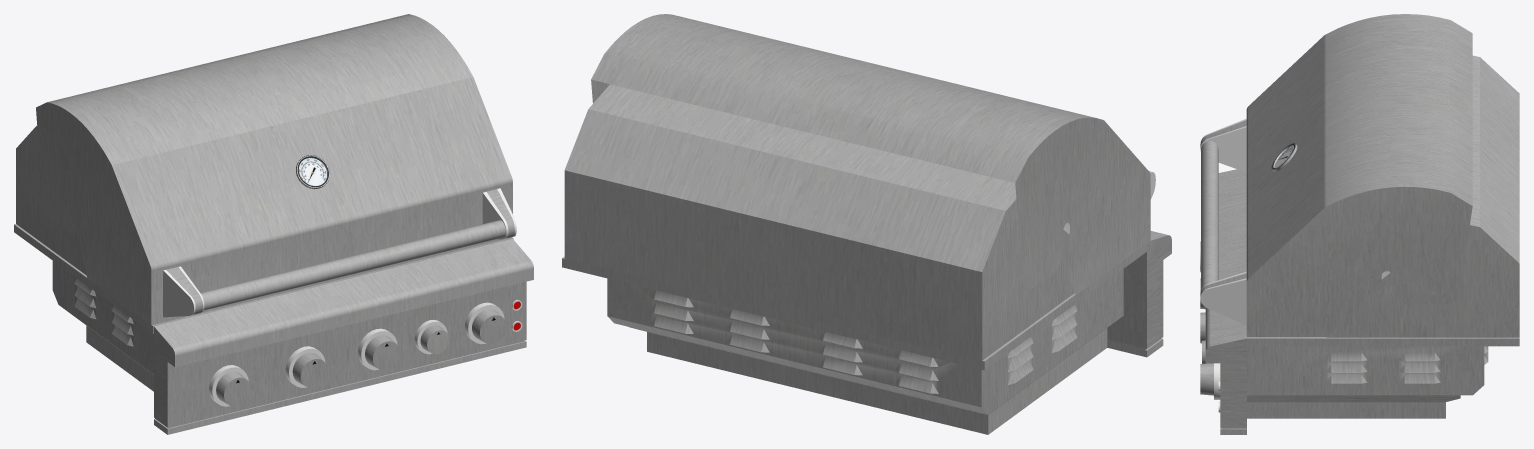
The model's file is grill.glb.
3 views of the same model, side by side, from view 1: azimuth 30°, elevation 25°; view 2: azimuth 150°, elevation 25°; view 3: azimuth 270°, elevation 25° (orthographic). The views are drawn at different scales.
Visible parts, largest first — view 1: B Series Basic Edition 32; view 2: B Series Basic Edition 32; view 3: B Series Basic Edition 32.
Part boxes in pixels (x1,y1,x2,y2): B Series Basic Edition 32: (14,14,533,434); B Series Basic Edition 32: (562,14,1171,434); B Series Basic Edition 32: (1200,14,1519,434).
Bounding box in the file's own units: 0.8257 × 0.5519 × 0.6438.
Materials: 5 (2 with a texture image).
